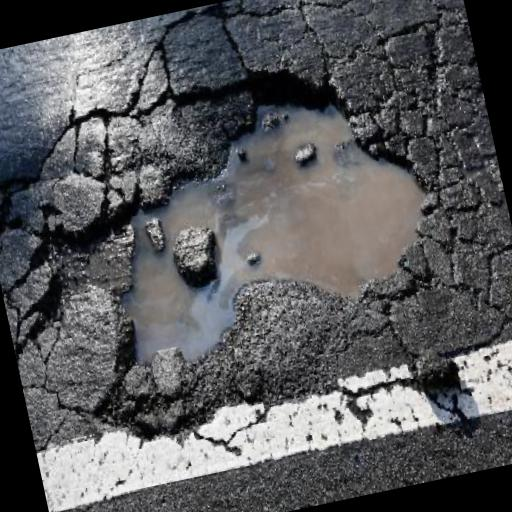pothole: (25, 30, 474, 448)
